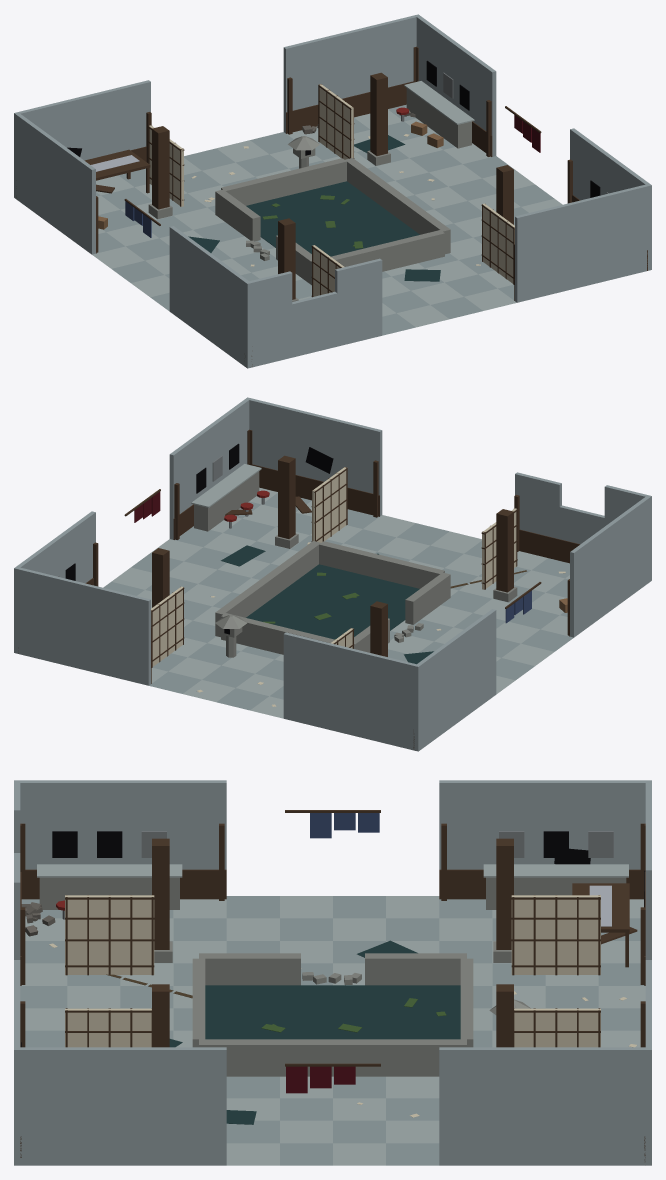
3 views of the same model, one above another, from view 1: azimuth 30°, elevation 25°; view 2: azimuth 150°, elevation 25°; view 3: azimuth 270°, elevation 25° (orthographic). The views are drawn at different scales.
Parts seen in each view (by area): view 1: G_A, G_A_Deco; view 2: G_A, G_A_Deco; view 3: G_A, G_A_Deco.
Boxes of the visible parts, x1,y1,x2,y2 form: G_A: (14, 14, 651, 368); G_A_Deco: (16, 46, 647, 366); G_A: (14, 397, 651, 751); G_A_Deco: (18, 429, 579, 748); G_A: (14, 780, 651, 1165); G_A_Deco: (20, 810, 645, 1161).
Size of the model in its own units: 2 by 2 by 0.4032.
